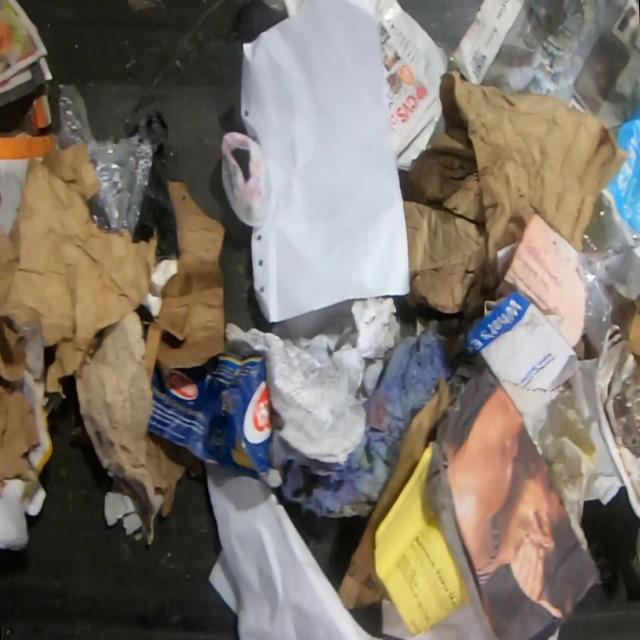cardboard: (337, 377, 451, 611), (142, 178, 226, 383), (146, 353, 274, 476), (0, 315, 41, 483), (619, 292, 640, 396)
rigid_plastic: (576, 260, 614, 350)
soft_plastic: (52, 84, 154, 230), (122, 109, 178, 261), (219, 129, 274, 229)
